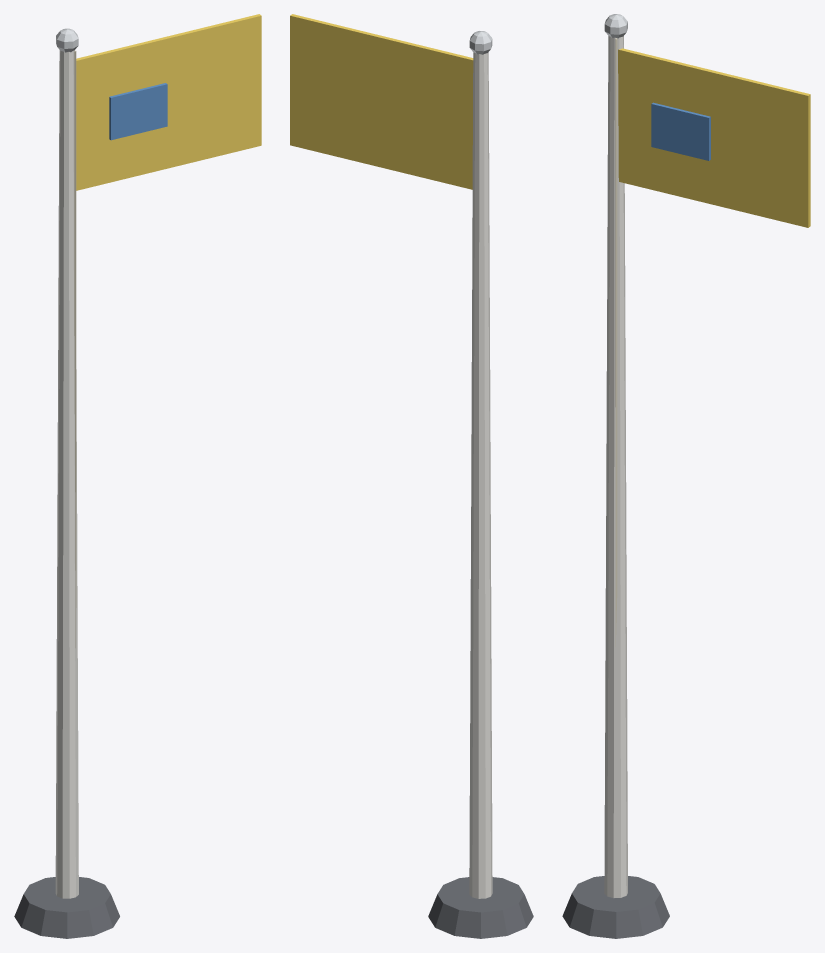
Rendered from hot-air-balloon-festival-event-flag-pole-f98bce99.glb.
3 views of the same model, side by side, from view 1: azimuth 30°, elevation 25°; view 2: azimuth 150°, elevation 25°; view 3: azimuth 330°, elevation 25° (orthographic).
Parts seen in each view (by area): view 1: event-flag-pole-canvasD, event-flag-pole-canvasB, event-flag-pole-charcoal, event-flag-pole-canvasC, event-flag-pole-rope; view 2: event-flag-pole-canvasD, event-flag-pole-canvasB, event-flag-pole-charcoal; view 3: event-flag-pole-canvasD, event-flag-pole-canvasB, event-flag-pole-charcoal, event-flag-pole-canvasC, event-flag-pole-rope.
Boxes of the visible parts, left/top/right/bottom form: event-flag-pole-canvasD: left=76, top=14, right=261, bottom=190; event-flag-pole-canvasB: left=55, top=50, right=78, bottom=898; event-flag-pole-charcoal: left=14, top=877, right=119, bottom=938; event-flag-pole-canvasC: left=109, top=83, right=167, bottom=140; event-flag-pole-rope: left=74, top=50, right=76, bottom=647; event-flag-pole-canvasD: left=290, top=14, right=473, bottom=189; event-flag-pole-canvasB: left=469, top=52, right=492, bottom=898; event-flag-pole-charcoal: left=428, top=877, right=533, bottom=938; event-flag-pole-canvasD: left=618, top=48, right=810, bottom=227; event-flag-pole-canvasB: left=604, top=36, right=627, bottom=897; event-flag-pole-charcoal: left=562, top=876, right=669, bottom=938; event-flag-pole-canvasC: left=651, top=102, right=710, bottom=160; event-flag-pole-rope: left=615, top=38, right=617, bottom=646.
Size of the model in its own units: 1.76 by 6.28 by 0.68.
